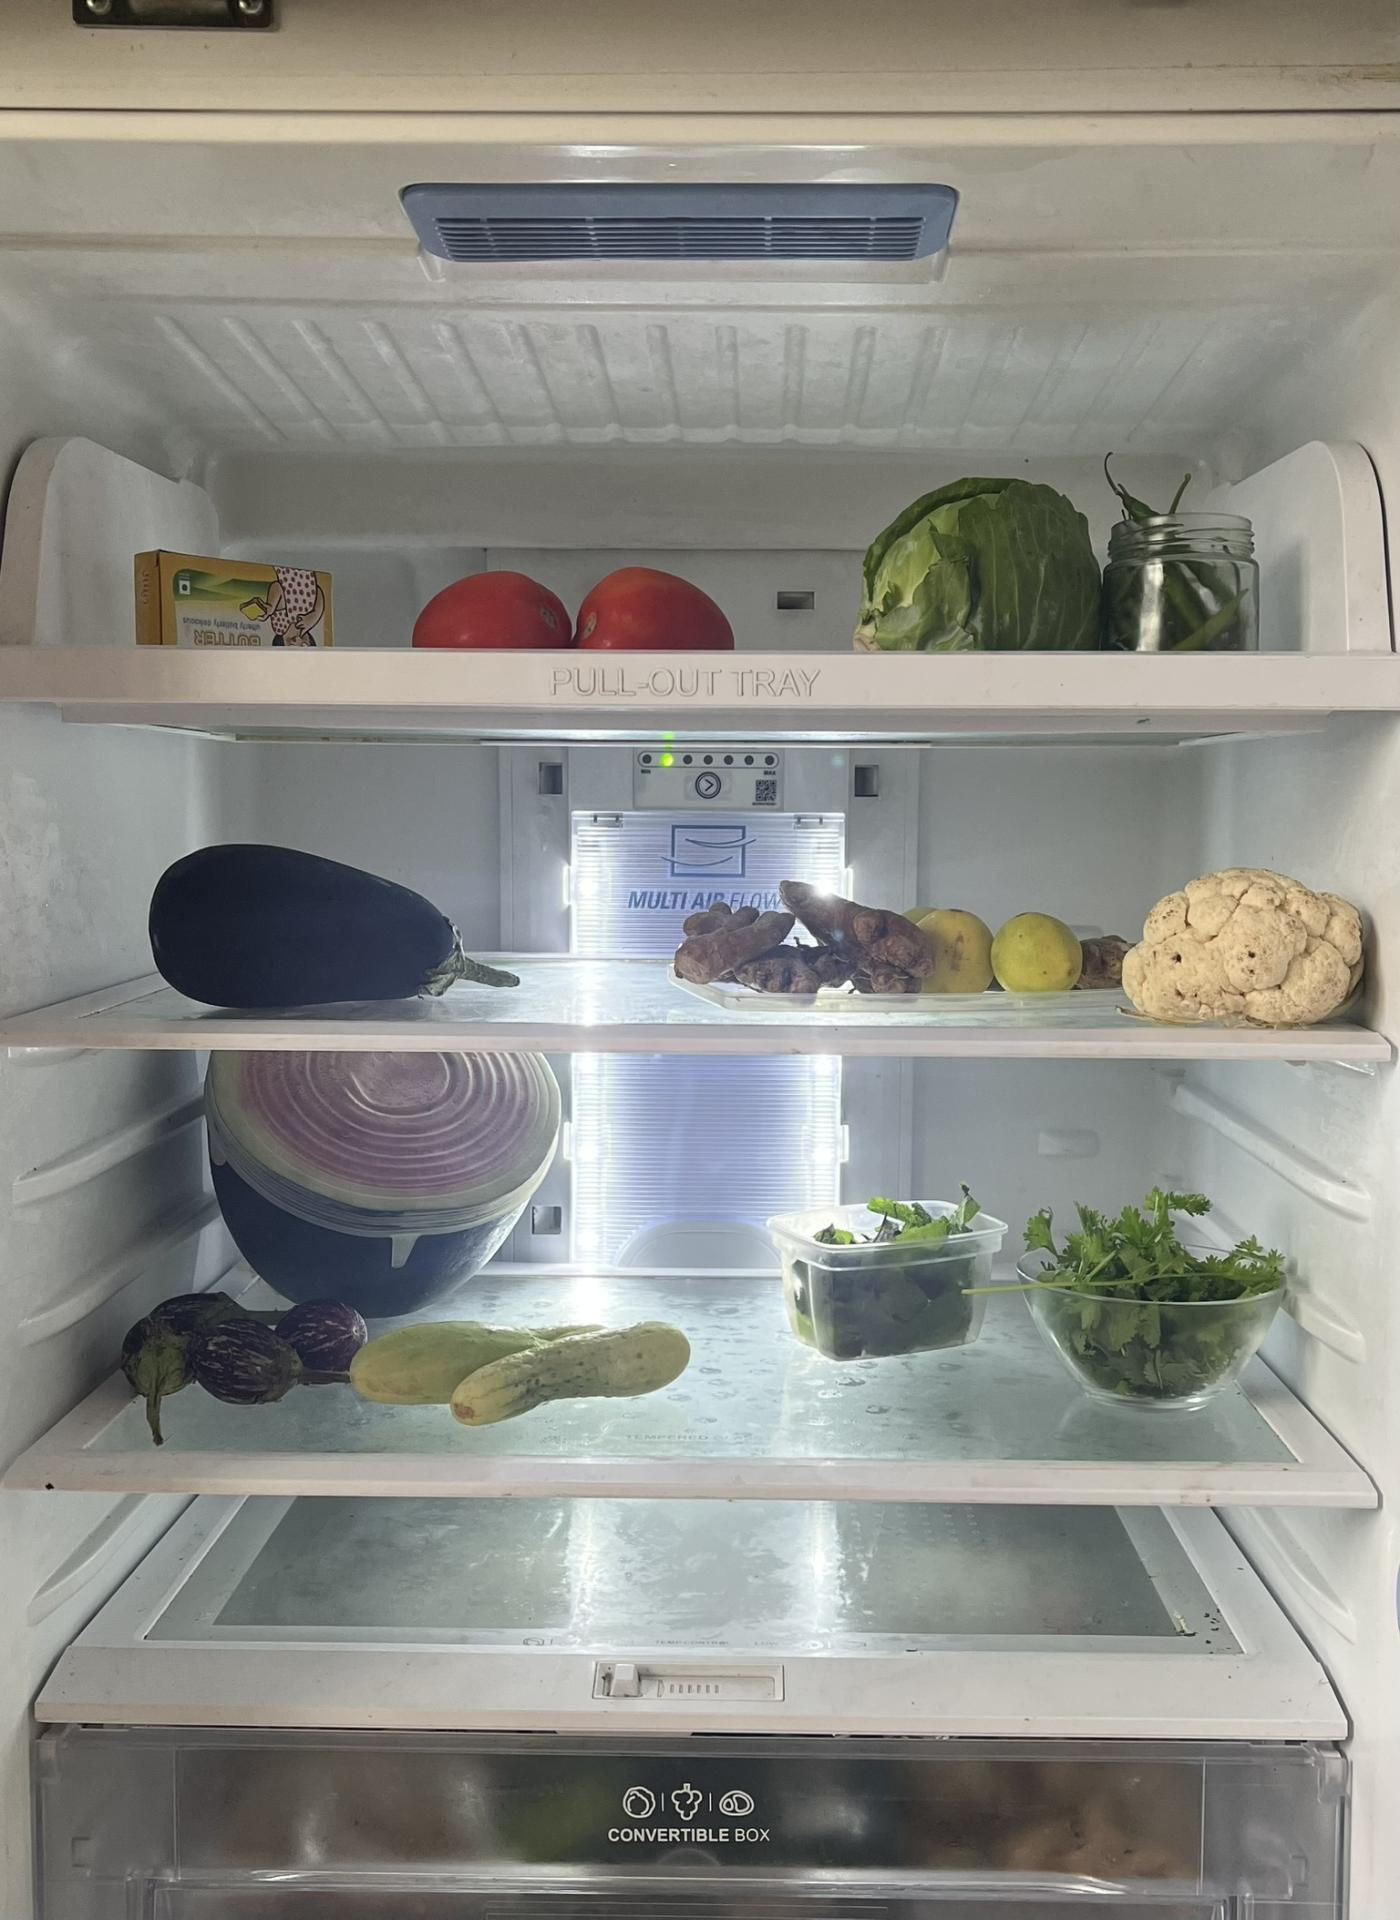basil: (768, 1185, 1002, 1357)
butter: (134, 537, 340, 647)
cabbage: (860, 473, 1106, 653)
cauliflower: (1112, 866, 1370, 1029)
chillies: (1097, 462, 1264, 650)
coriander: (1024, 1197, 1282, 1409)
cucumber: (337, 1309, 699, 1428)
ginger: (668, 878, 920, 1003)
lemon: (908, 906, 1088, 997)
tomato: (407, 559, 580, 653), (562, 569, 747, 647)
watermelon: (198, 1049, 571, 1328)
